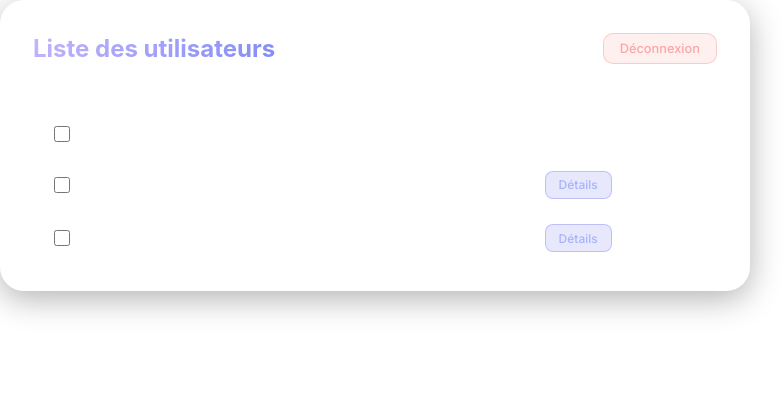
Scenario: UserList - mode admin (avec token) › désélectionne tous via select-all quand tous sont sélectionnés
The image size is (784, 412).
// Sélectionne tout
Click the checkbox with id "select-all": [62, 134] box [54,126,70,142]
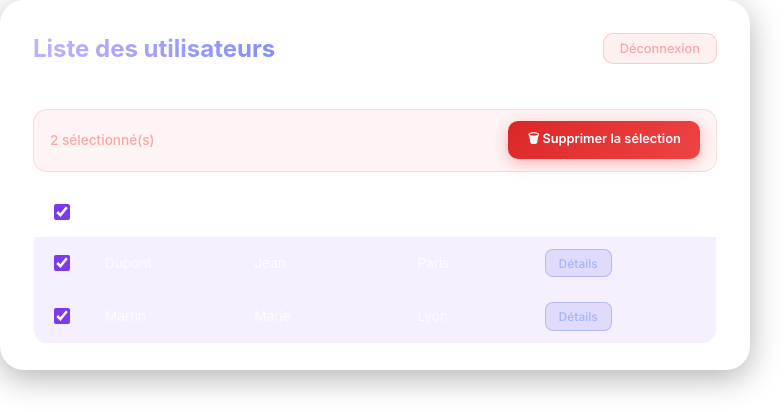
// Désélectionne tout
Click the checkbox with id "select-all": [62, 212] box [54,204,70,220]
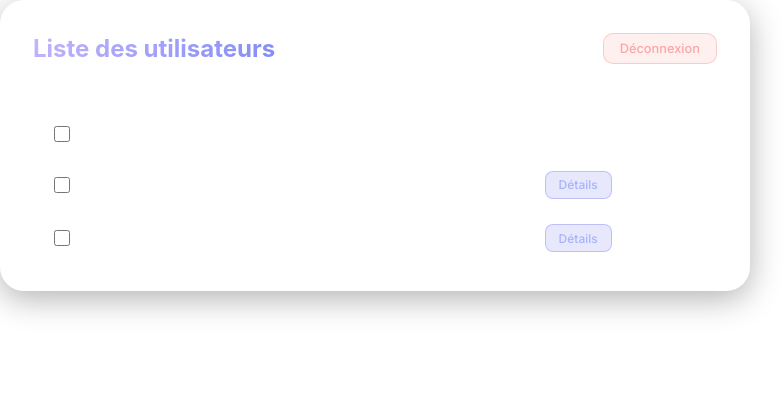
Expected: the checkbox with id "select-user-1" is not checked, [54,177,70,193]
